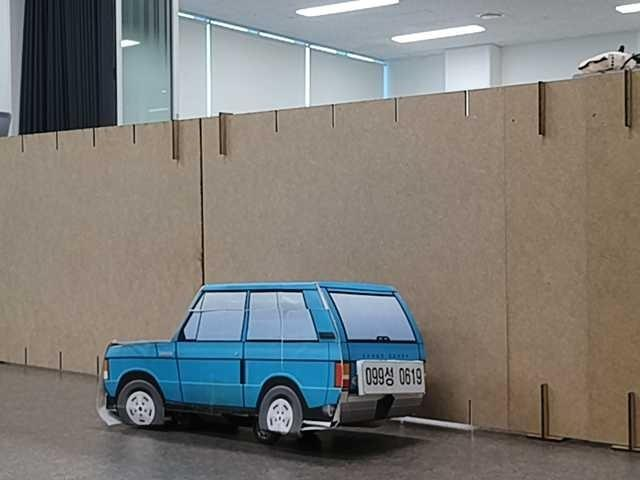car: (94, 276, 432, 443)
id: (356, 356, 428, 400)
